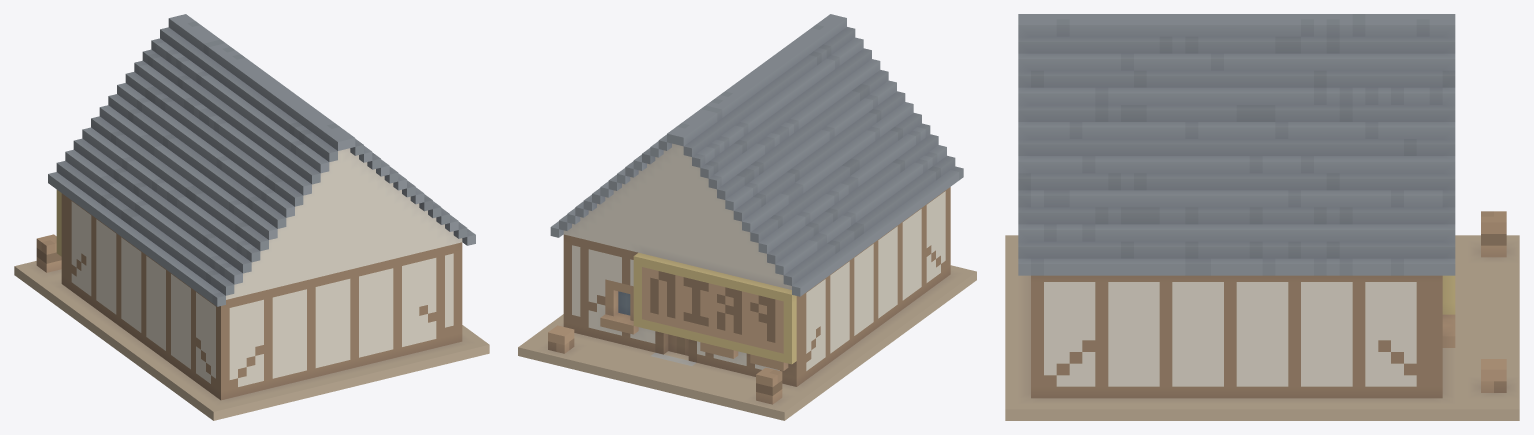
The model's file is printing_press.glb.
3 views of the same model, side by side, from view 1: azimuth 30°, elevation 25°; view 2: azimuth 150°, elevation 25°; view 3: azimuth 270°, elevation 25° (orthographic). The views are drawn at different scales.
Parts seen in each view (by area): view 1: printing_press; view 2: printing_press; view 3: printing_press.
Part boxes in pixels (x1,y1,x2,y2): printing_press: [14, 14, 489, 420]; printing_press: [518, 14, 976, 420]; printing_press: [1005, 14, 1519, 420].
Bounding box in the file's own units: 4 × 3.38 × 5.
